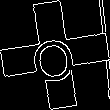O_N: (30, 26, 80, 84)
